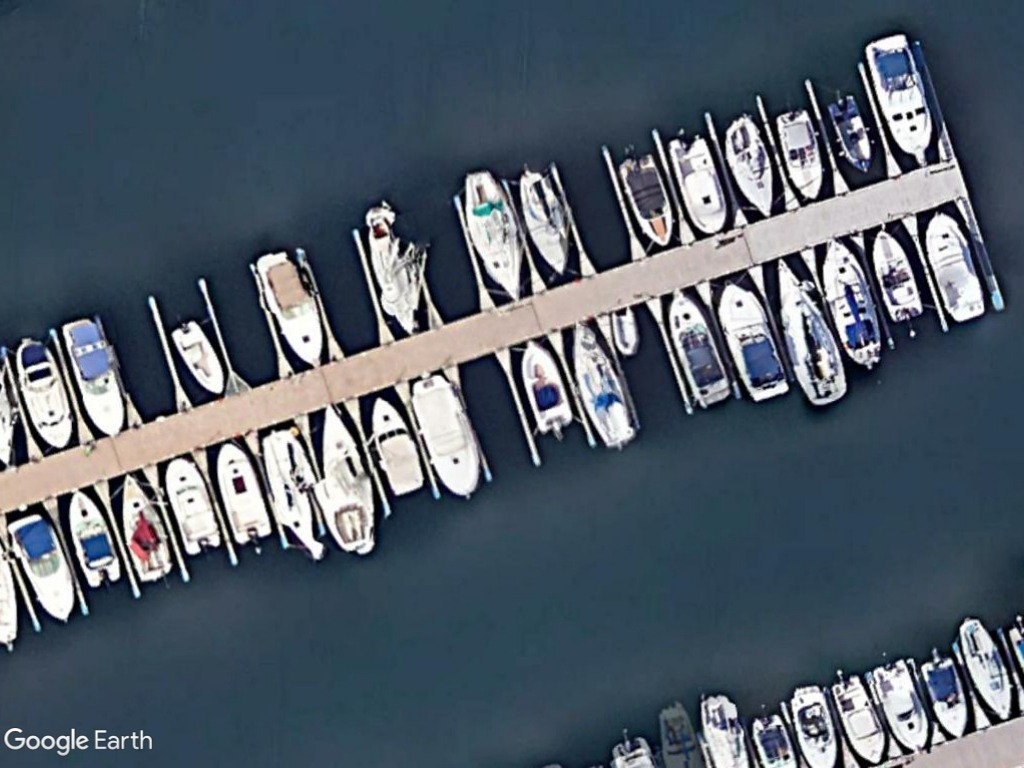boat: (773, 253, 853, 409), (313, 398, 382, 558), (408, 374, 486, 506), (259, 424, 333, 563), (254, 245, 332, 375), (861, 30, 937, 163), (717, 277, 793, 407), (458, 170, 531, 305), (817, 235, 887, 372), (5, 513, 81, 629), (62, 315, 131, 441), (571, 320, 638, 449), (667, 289, 738, 409), (9, 333, 79, 450), (922, 209, 991, 326), (665, 134, 737, 240), (212, 435, 278, 549), (954, 612, 1017, 728), (117, 467, 177, 587), (511, 161, 573, 277), (63, 484, 127, 593), (614, 147, 677, 252), (162, 453, 225, 558), (722, 112, 780, 221), (871, 653, 932, 755), (368, 394, 426, 500), (771, 101, 829, 204), (829, 672, 890, 768), (520, 336, 579, 435), (166, 317, 233, 401), (868, 228, 926, 324), (918, 645, 971, 743), (826, 88, 876, 177)
